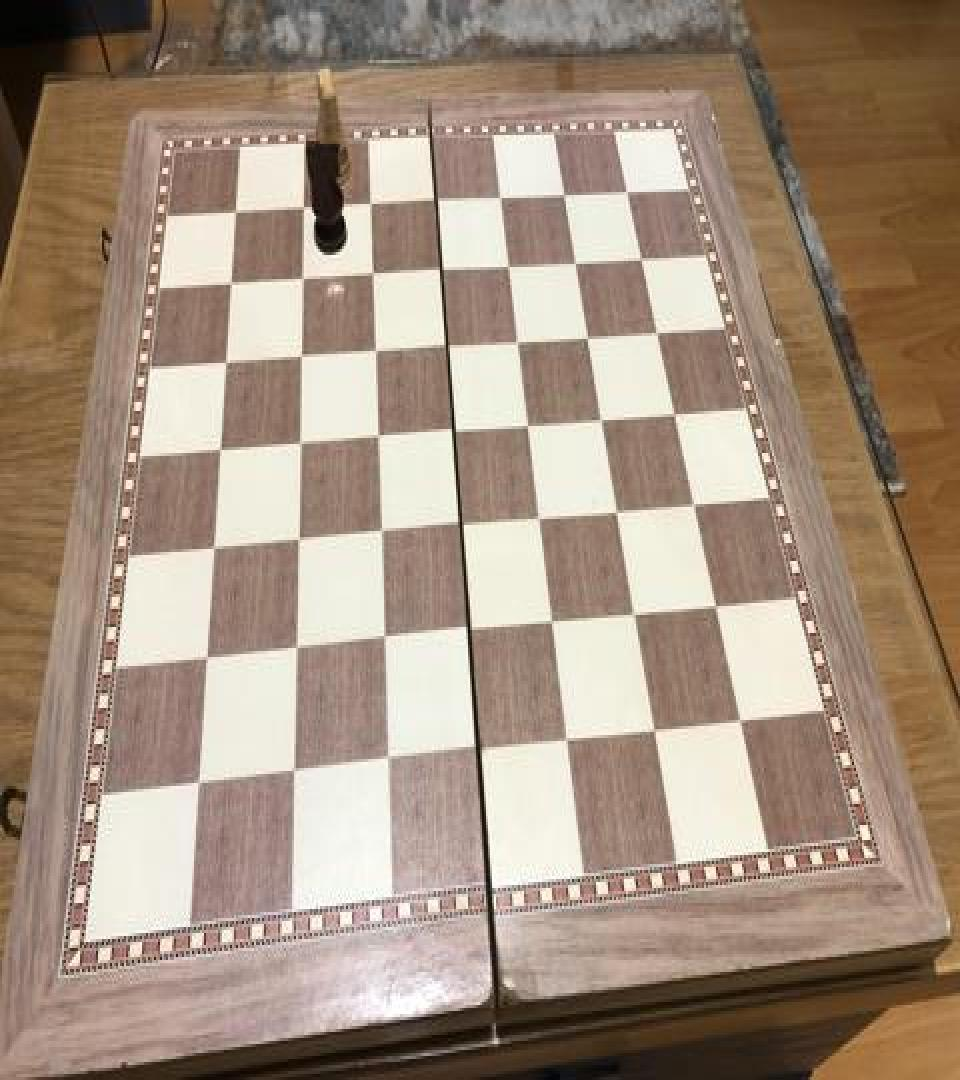xcorner: (728, 703, 752, 740), (187, 769, 211, 806), (615, 174, 639, 210), (552, 177, 576, 213), (489, 180, 513, 216), (424, 184, 448, 220), (359, 189, 383, 225), (293, 192, 317, 228), (225, 196, 249, 232), (629, 240, 653, 276), (563, 244, 587, 280), (497, 249, 521, 285), (429, 254, 453, 290), (361, 258, 385, 294), (291, 262, 315, 298), (221, 267, 245, 303), (645, 314, 669, 350), (576, 320, 600, 356), (506, 324, 530, 360), (435, 330, 459, 366), (363, 334, 387, 370), (290, 340, 314, 376), (215, 346, 239, 382), (662, 396, 686, 432), (590, 402, 614, 438), (516, 408, 540, 444), (442, 414, 466, 450), (365, 422, 389, 458), (288, 428, 312, 464), (209, 434, 233, 470), (682, 486, 706, 522), (605, 494, 629, 530), (528, 501, 552, 537), (449, 508, 473, 544), (368, 516, 392, 552), (286, 525, 310, 561), (203, 532, 227, 568), (704, 590, 728, 626), (623, 597, 647, 633), (541, 606, 565, 642), (457, 615, 481, 651), (371, 624, 395, 660), (284, 634, 308, 670), (195, 644, 219, 680), (643, 714, 667, 750), (555, 724, 579, 760), (466, 736, 490, 772), (375, 747, 399, 783), (282, 758, 306, 794)
